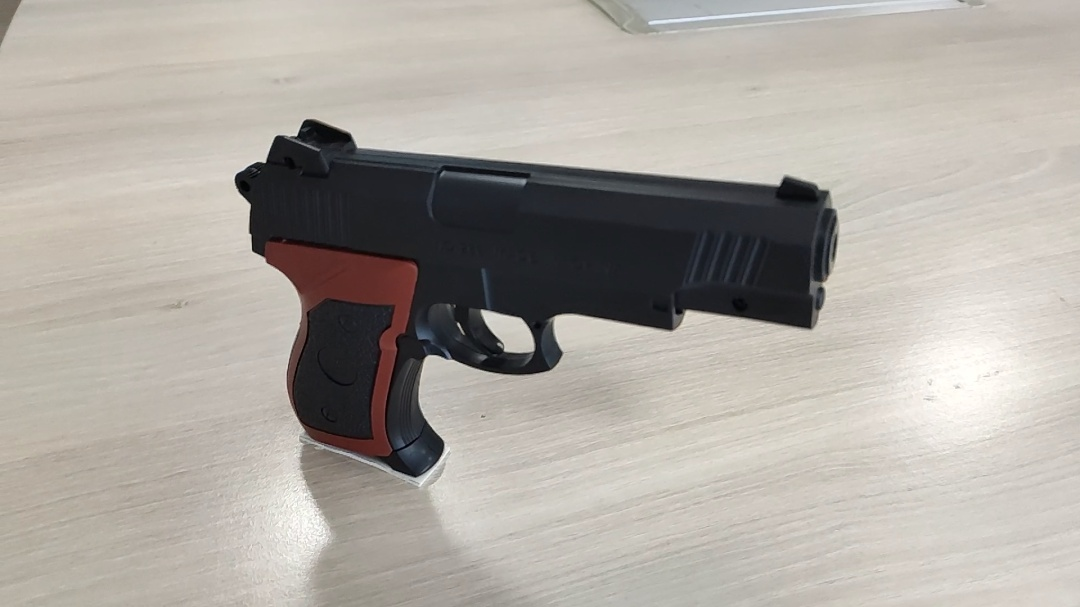gun: (233, 118, 841, 480)
